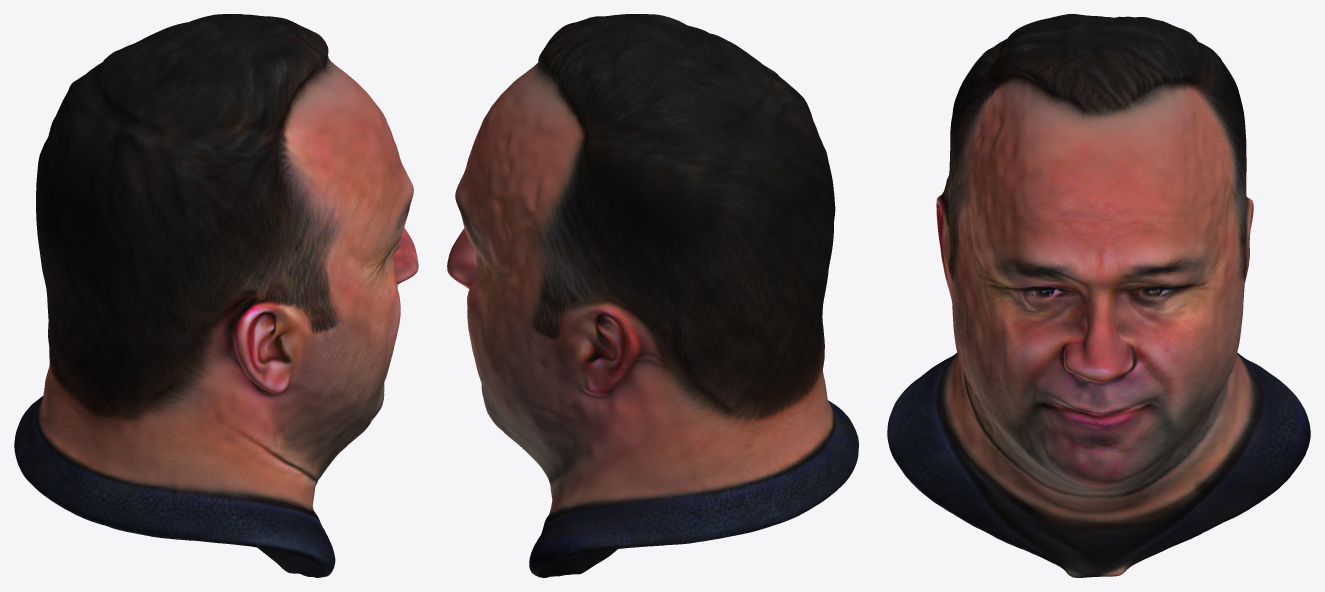
Rendered from kanye.glb.
3 views of the same model, side by side, from view 1: azimuth 30°, elevation 25°; view 2: azimuth 150°, elevation 25°; view 3: azimuth 270°, elevation 25° (orthographic). The views are drawn at different scales.
Visible parts, largest first — view 1: high_poly_0; view 2: high_poly_0; view 3: high_poly_0.
Boxes of the visible parts, x1,y1,x2,y2 form: high_poly_0: (14,14,418,577); high_poly_0: (447,14,858,577); high_poly_0: (887,14,1310,577).
Size of the model in its own units: 0.7185 by 1 by 0.7333.
1 material, 1 textured.
